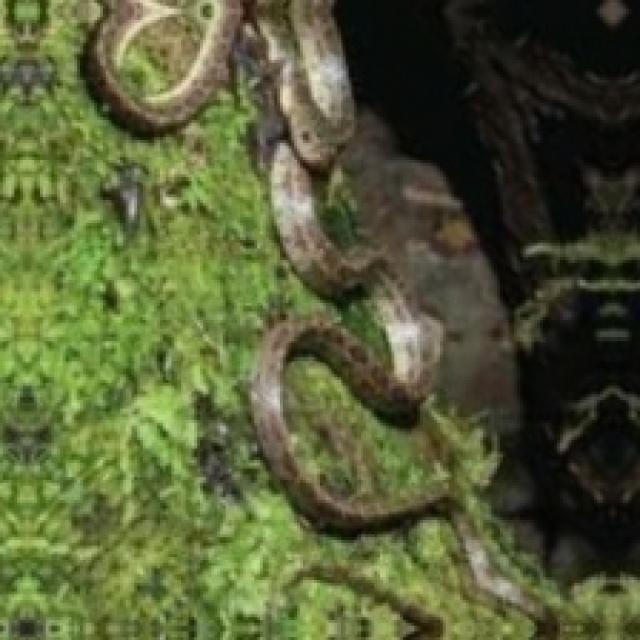mullers wolf snake: (83, 0, 557, 637)
